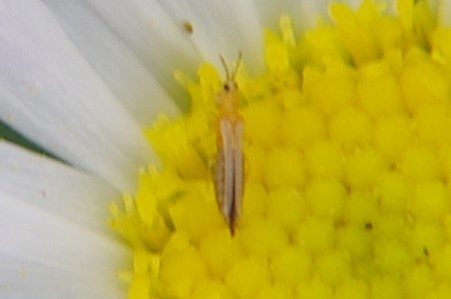tiny_pests: (175, 27, 282, 259)
